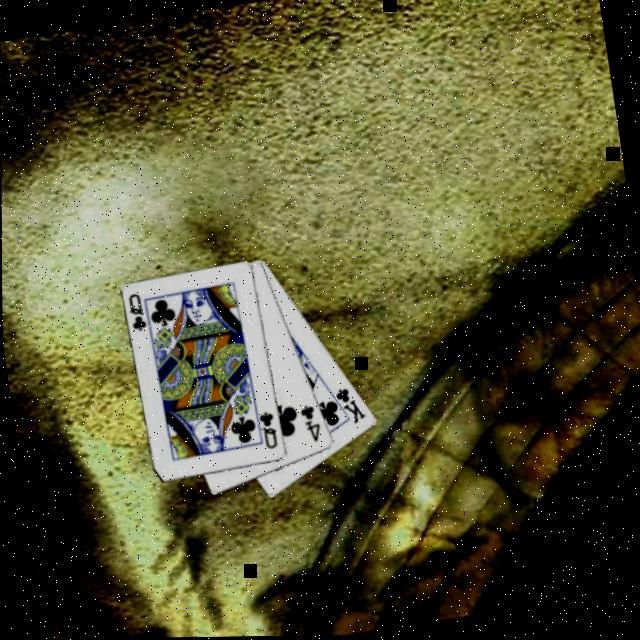4C: (296, 401, 324, 447)
KC: (324, 382, 368, 430)
QC: (254, 408, 280, 453), (124, 290, 150, 335)
